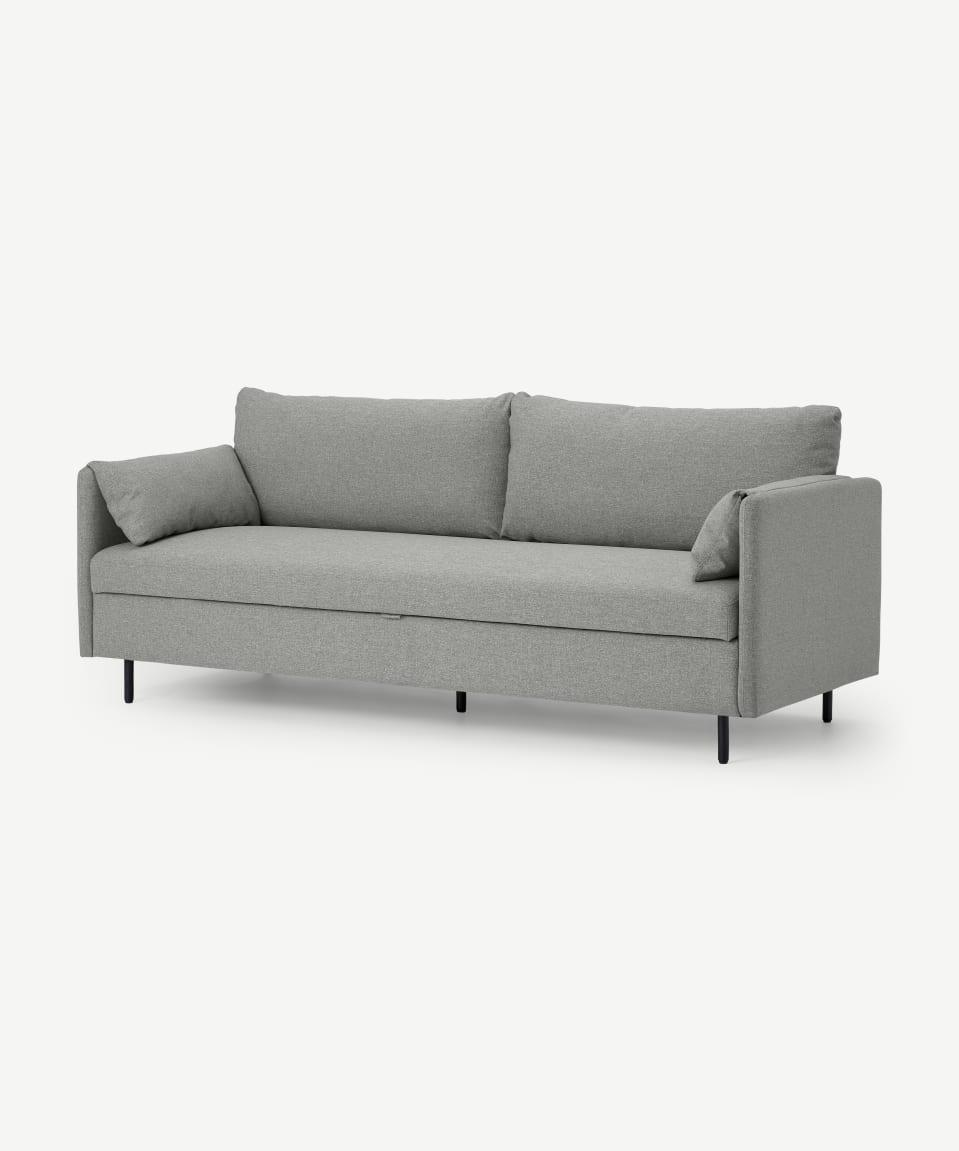couch: (82, 373, 883, 761)
